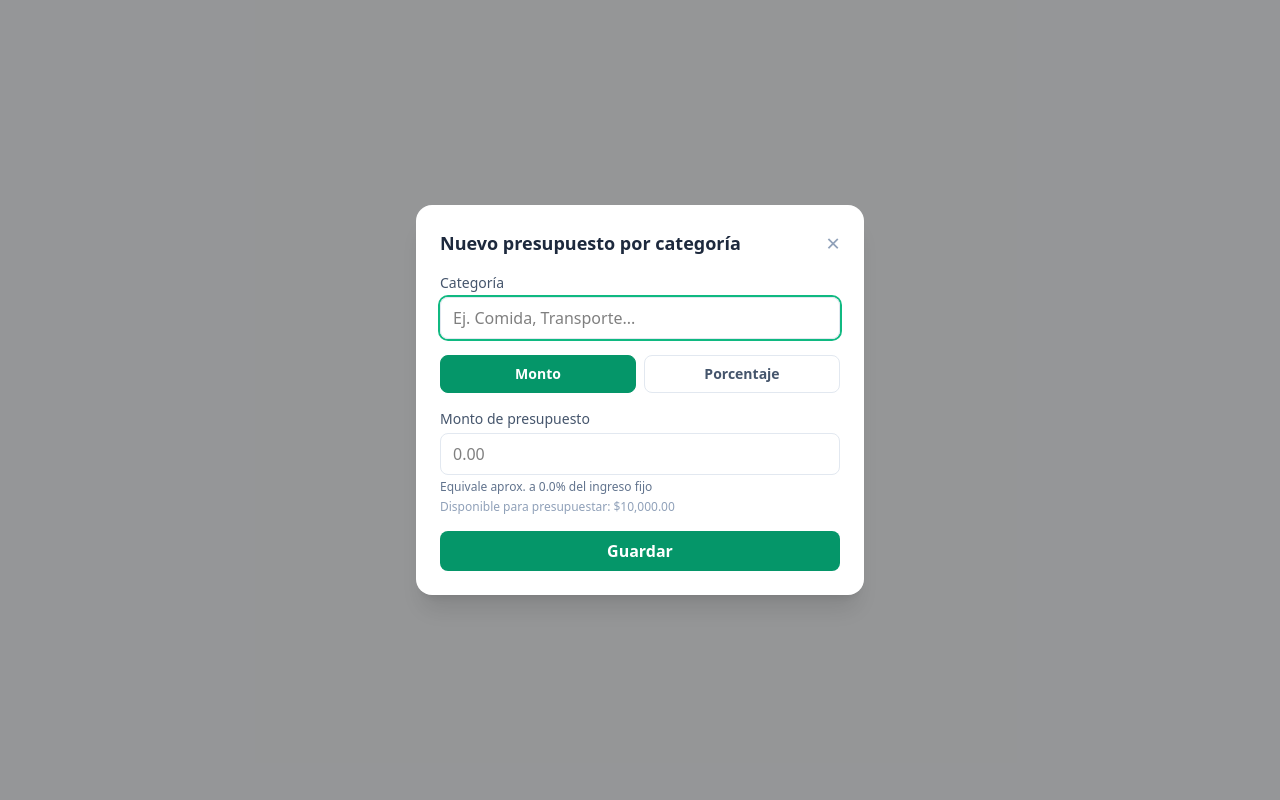
ModalPresupuestoCategoria › exige el nombre de la categoría cuando se crea un presupuesto nuevo
Type "1000" into the number field with placeholder "0.00" at (640, 454), box top-left (440, 433), bottom-right (840, 475)
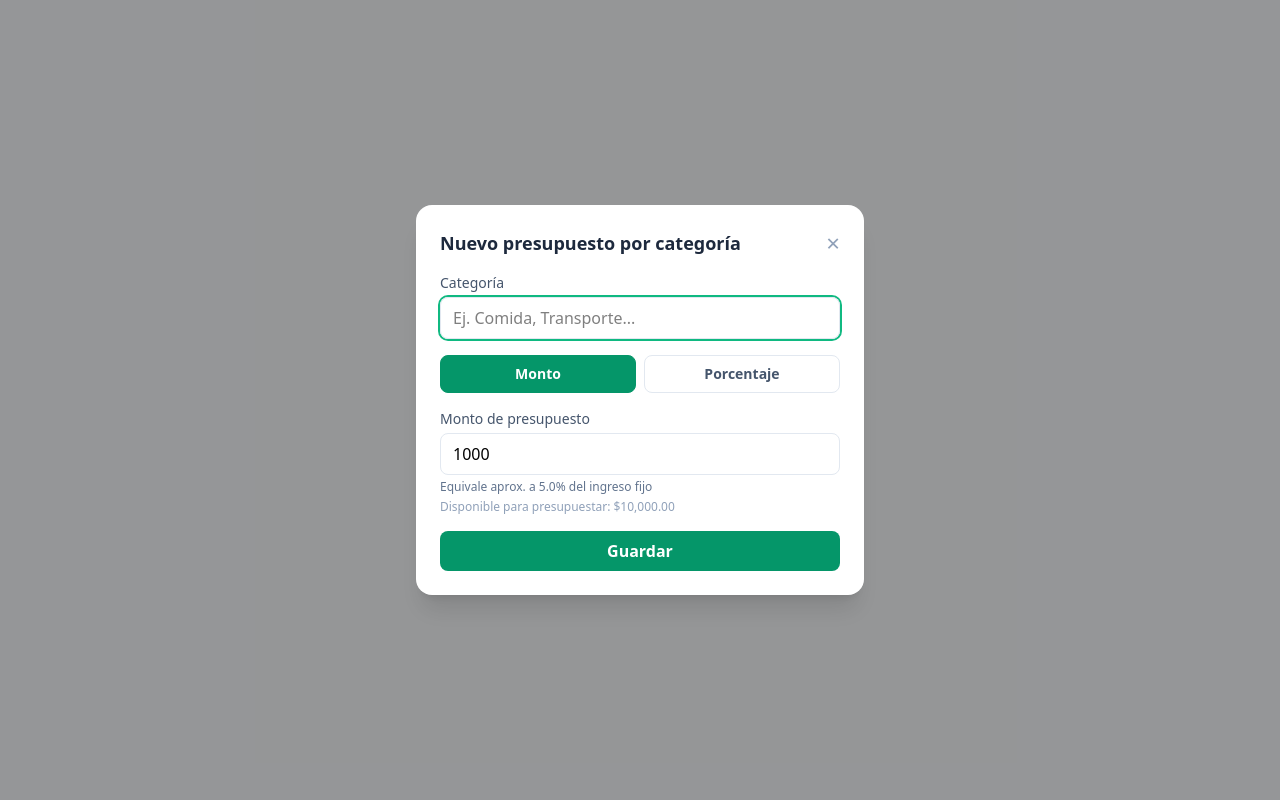
Click the button "Guardar" at (640, 551), box top-left (440, 531), bottom-right (840, 571)
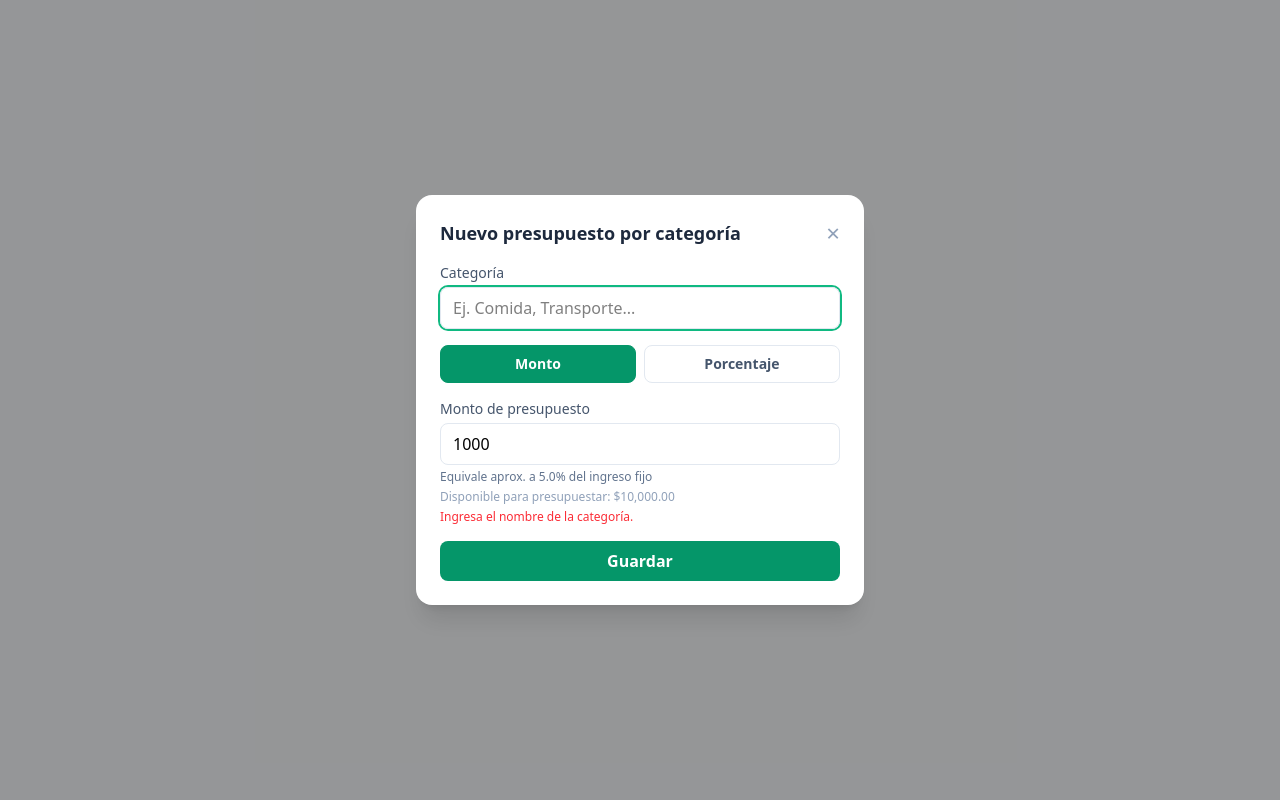
Now the text "Ingresa el nombre de la categoría." is shown, box top-left (440, 508), bottom-right (633, 525)
